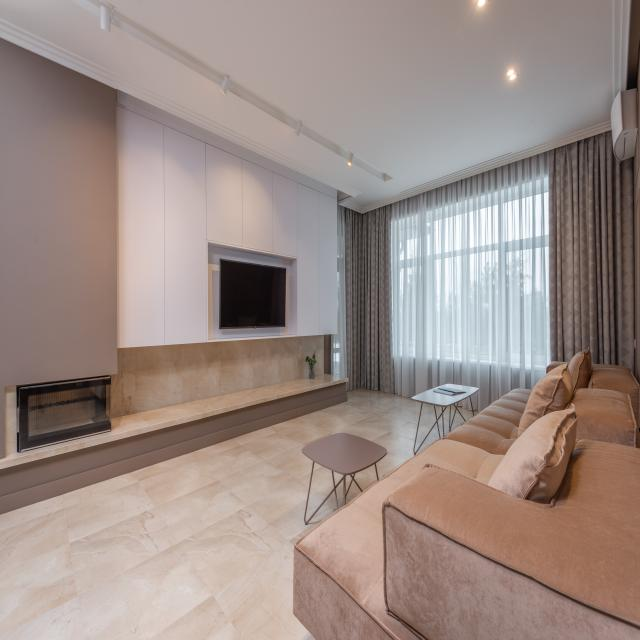floor: (0, 388, 440, 640), (305, 462, 334, 521), (414, 403, 436, 452), (443, 406, 465, 436), (354, 464, 377, 492), (457, 406, 473, 422), (333, 471, 343, 487), (450, 405, 456, 429), (345, 475, 352, 495), (438, 415, 443, 438), (435, 406, 442, 419), (473, 409, 479, 416), (351, 474, 354, 477), (443, 407, 445, 411)
wall: (117, 95, 338, 348), (0, 37, 117, 459), (111, 335, 324, 419), (208, 242, 297, 342), (219, 258, 286, 329)
